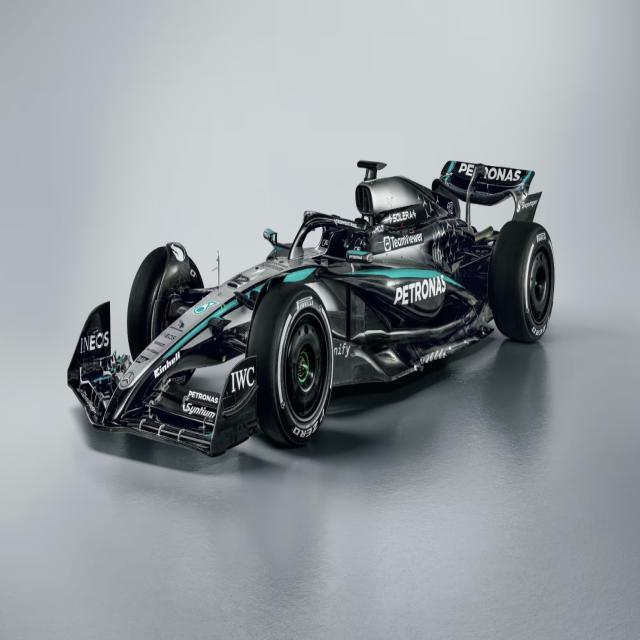Mercedes: (66, 157, 556, 462)
